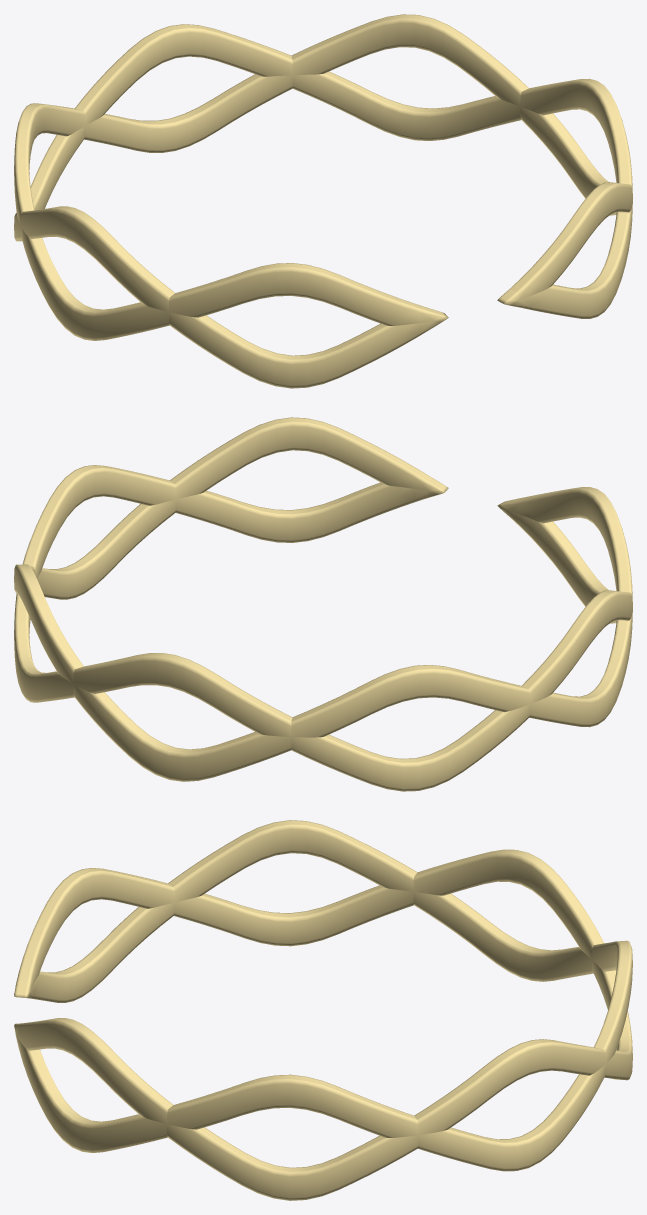
The model's file is 2-gold.gltf.
3 views of the same model, one above another, from view 1: azimuth 30°, elevation 25°; view 2: azimuth 150°, elevation 25°; view 3: azimuth 270°, elevation 25° (orthographic).
Visible parts, largest first — view 1: Cylinder002, Cylinder001; view 2: Cylinder001, Cylinder002; view 3: Cylinder002, Cylinder001.
Part boxes in pixels (x1,y1,x2,y2): Cylinder002: [14, 24, 632, 388]; Cylinder001: [14, 14, 632, 340]; Cylinder001: [14, 417, 632, 781]; Cylinder002: [14, 465, 632, 791]; Cylinder002: [14, 820, 632, 1171]; Cylinder001: [14, 849, 632, 1200].
Size of the model in its own units: 19.97 by 4.3 by 19.9.
